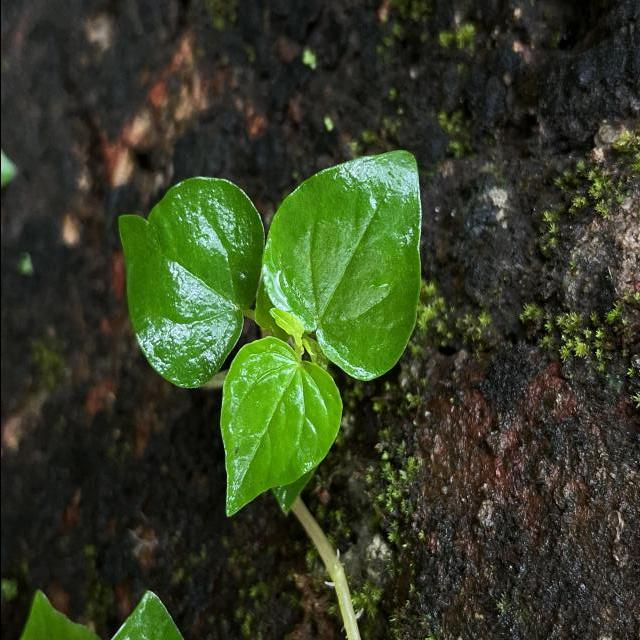Peperomia pellucida: (254, 146, 425, 384), (114, 174, 267, 392), (216, 333, 342, 519)
